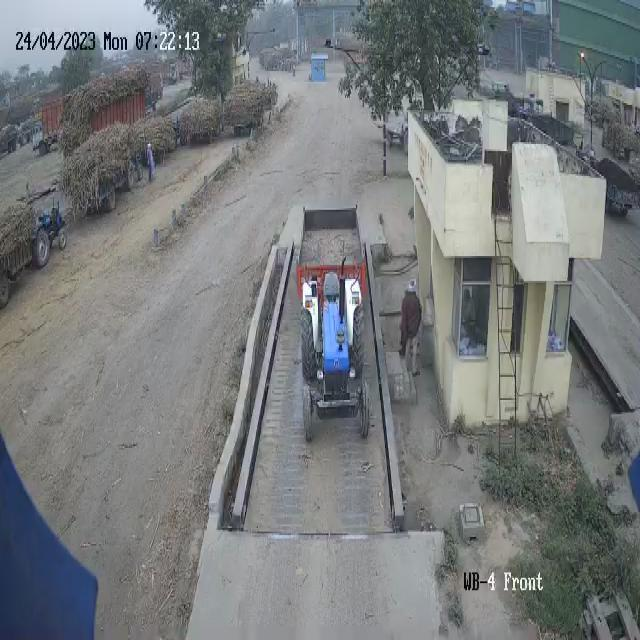Tratores - v5 YOLO V8L 2024-11-13: (294, 268, 374, 451), (26, 203, 71, 264)
